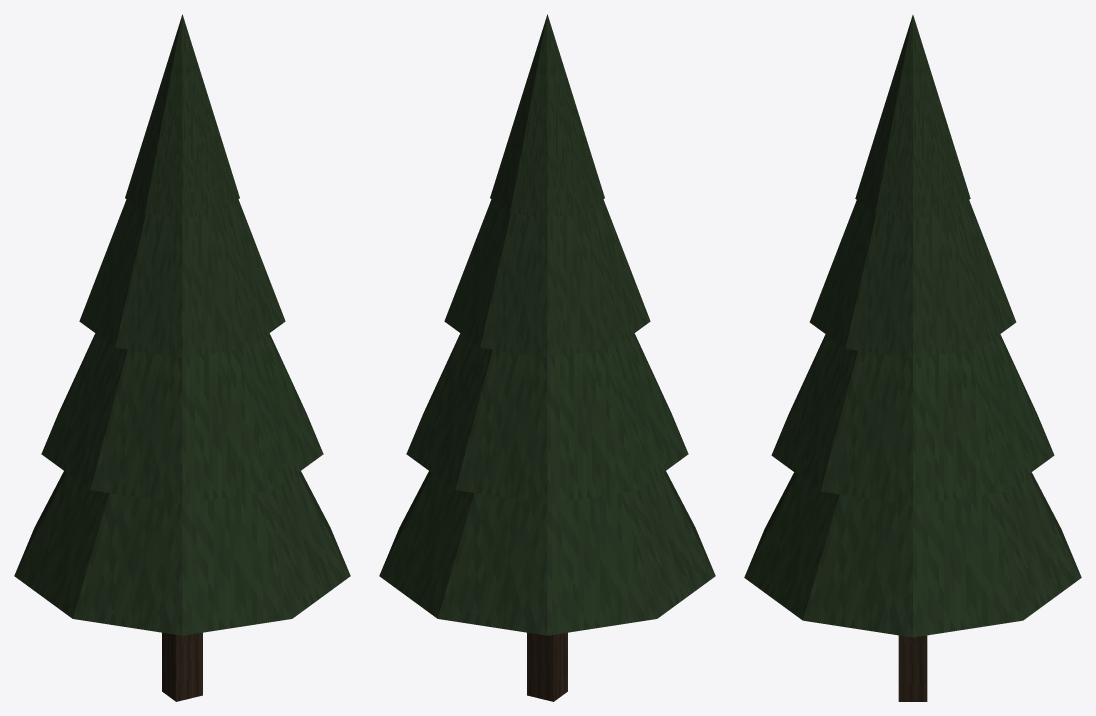
File: pine.glb
The picture shows the model from 3 angles, left to right: view 1: azimuth 30°, elevation 25°; view 2: azimuth 150°, elevation 25°; view 3: azimuth 270°, elevation 25°; orthographic projection.
Parts seen in each view (by area): view 1: pine; view 2: pine; view 3: pine.
Part boxes in pixels (box(x1,y1,x2,y2)): pine: box(14, 14, 350, 701); pine: box(379, 14, 715, 701); pine: box(744, 15, 1081, 701).
Size of the model in its own units: 3.01 by 6.8 by 3.05.
1 material, 1 textured.
